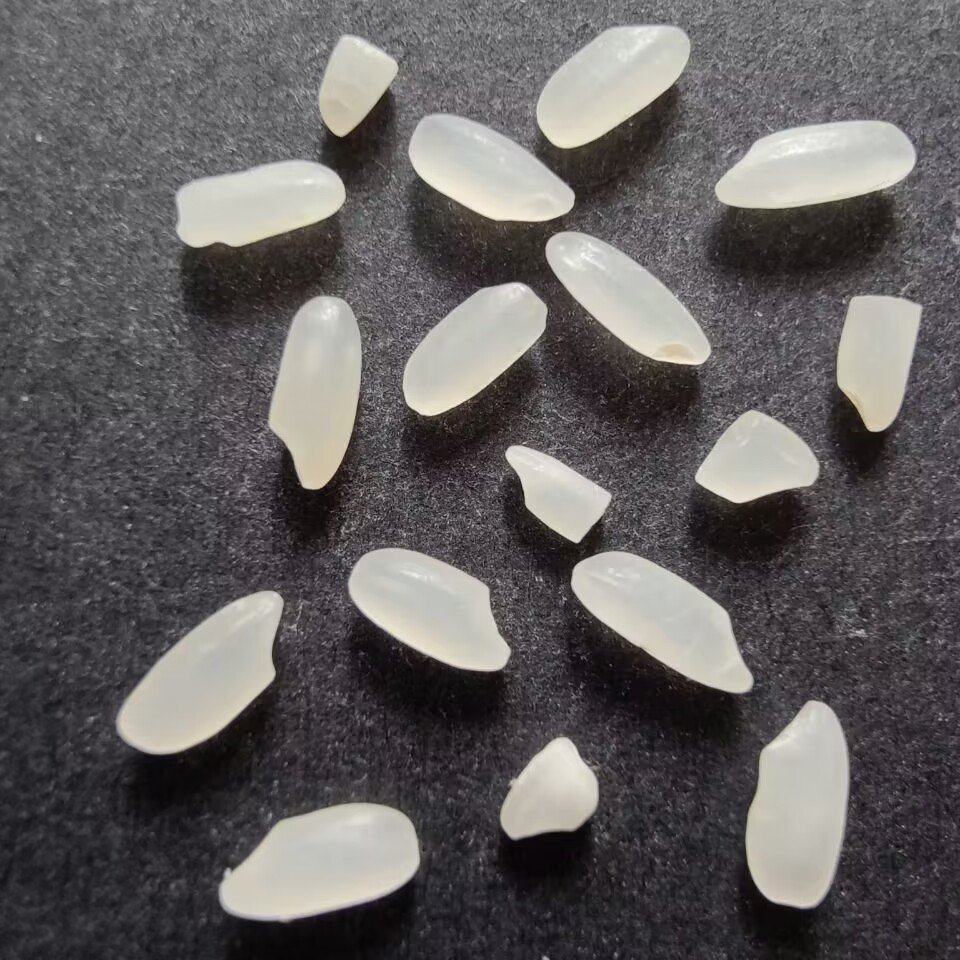broken: (830, 291, 926, 433), (688, 408, 823, 506), (500, 442, 617, 548), (494, 735, 602, 848), (314, 33, 403, 142)
rice: (111, 585, 286, 760), (563, 546, 756, 696), (214, 800, 429, 923), (741, 695, 851, 913), (545, 228, 713, 370), (341, 545, 513, 677), (535, 16, 692, 154), (397, 277, 550, 418), (260, 291, 364, 495), (710, 116, 921, 213), (405, 109, 576, 227), (167, 156, 349, 253)
